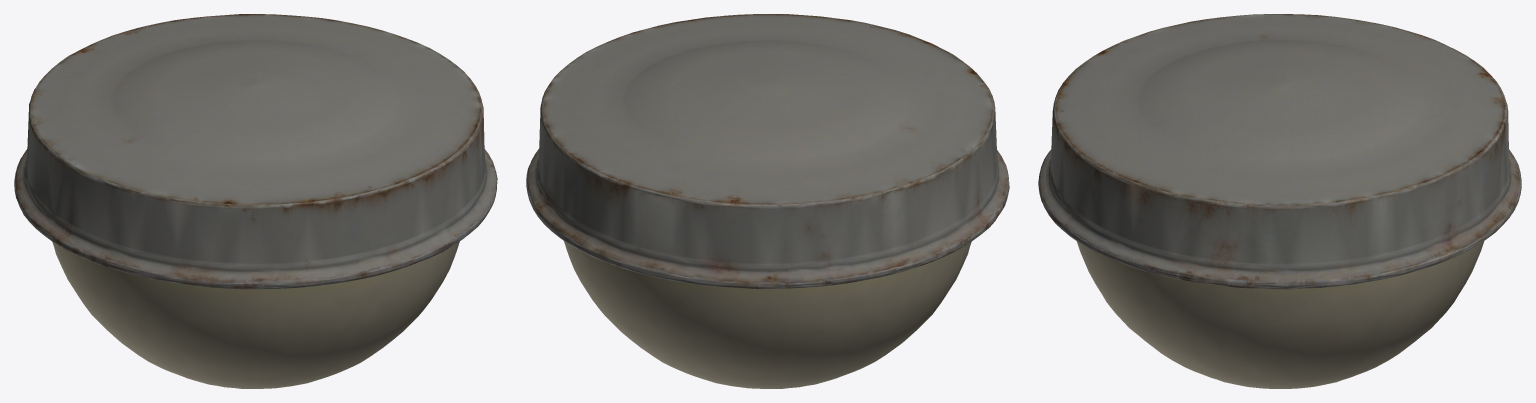
Rendered from vintage+ceiling+light+3d+model.fbx.
3 renders of one model, left to right at view 1: azimuth 30°, elevation 25°; view 2: azimuth 150°, elevation 25°; view 3: azimuth 270°, elevation 25°, orthographic.
Visible parts, largest first — view 1: tripo_node_ffe3c4d5; view 2: tripo_node_ffe3c4d5; view 3: tripo_node_ffe3c4d5.
Boxes of the visible parts, x1=… form: tripo_node_ffe3c4d5: x1=14, y1=14, x2=497, y2=388; tripo_node_ffe3c4d5: x1=526, y1=14, x2=1009, y2=388; tripo_node_ffe3c4d5: x1=1038, y1=14, x2=1521, y2=388.
Bounding box in the file's own units: 0.9997 × 0.6495 × 0.9978.
1 material, 1 textured.
